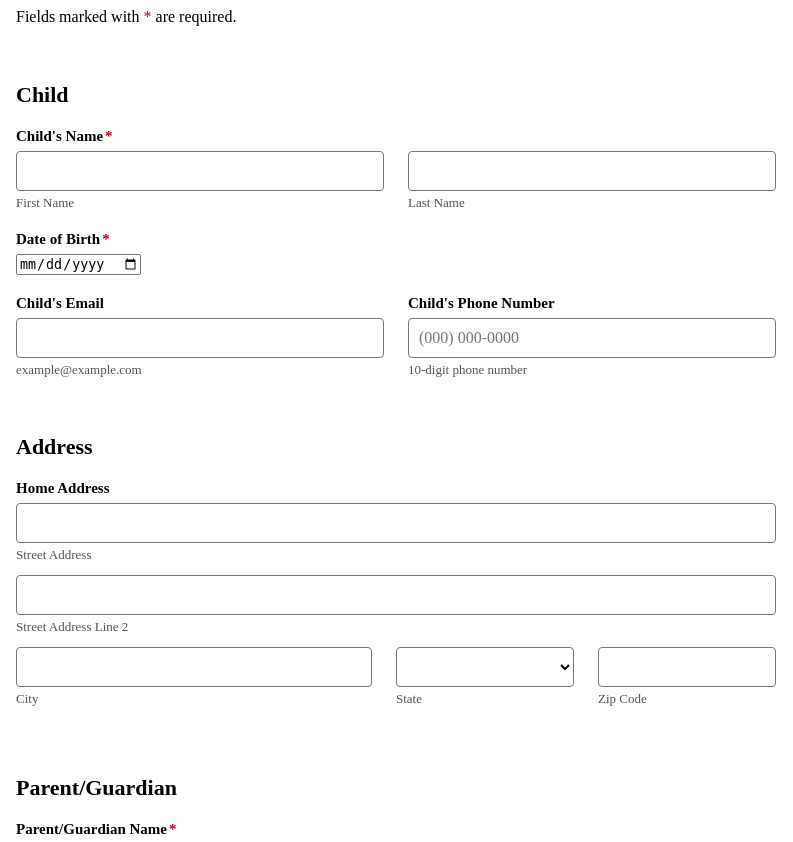
Scenario: SundaySchoolRegistrationForm › shows an error when leaving an invalid field
Type "410-555" into the field labelled "Child's Phone Number".
click(592, 338); type("410-555")  # box [408,318,776,358]
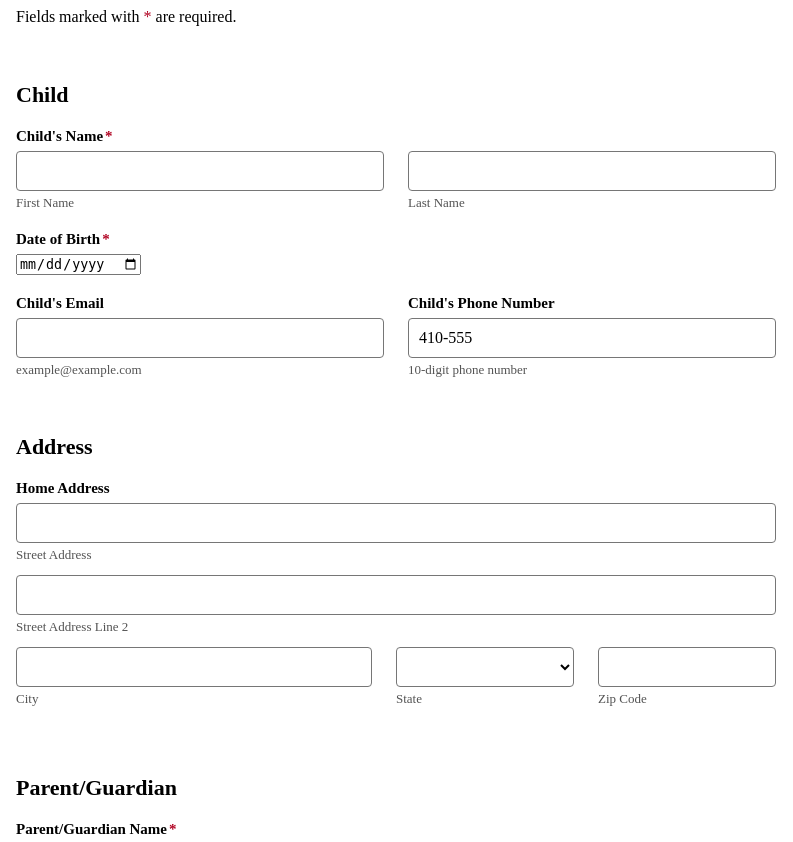
Leave the field labelled "Child's Phone Number", box [408,318,776,358]
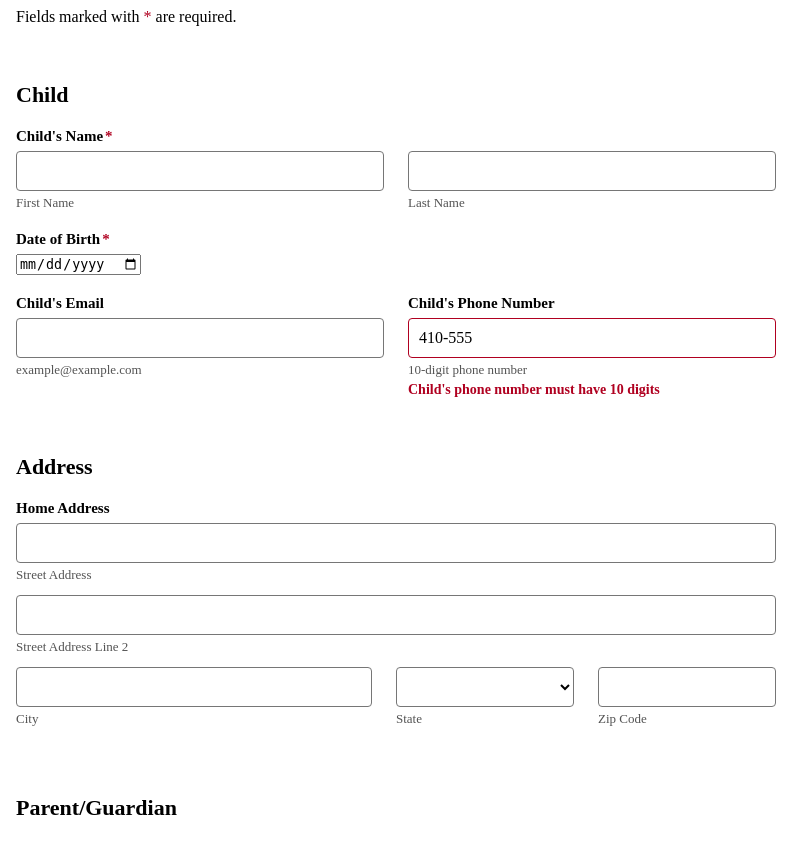
expect the text "Child's phone number must have 10 digits" is shown: met, box [408,382,660,397]
